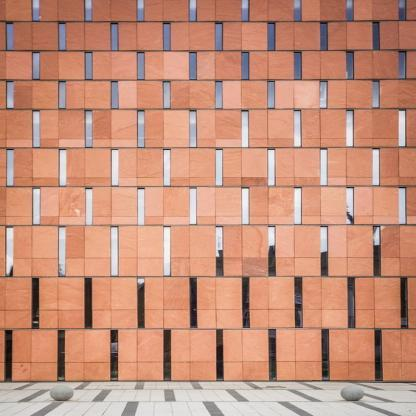Building Outline: (0, 0, 416, 382)
Facade: (0, 0, 416, 382)
Floor: (0, 279, 416, 326), (0, 228, 416, 274), (0, 112, 416, 146), (0, 151, 416, 185), (0, 189, 416, 223), (0, 24, 416, 49), (0, 53, 416, 78), (0, 82, 416, 107), (0, 0, 416, 19)
Floor Slab: (0, 326, 416, 331), (0, 274, 416, 279), (0, 223, 416, 228), (0, 184, 416, 189), (0, 146, 416, 151), (0, 107, 416, 112), (0, 19, 416, 24), (0, 78, 416, 82), (0, 49, 416, 53)
Ground Floor: (0, 331, 416, 382)
Window: (268, 329, 276, 382), (4, 330, 12, 382), (216, 330, 224, 382), (373, 227, 381, 277), (294, 279, 302, 329), (347, 278, 355, 328), (216, 227, 224, 277), (58, 227, 66, 277), (84, 279, 92, 329), (136, 278, 144, 328), (322, 329, 329, 381), (375, 330, 382, 382), (57, 330, 64, 382), (111, 330, 118, 382), (164, 330, 171, 382), (321, 226, 328, 276), (242, 278, 249, 328), (400, 278, 407, 328), (268, 226, 275, 276), (32, 278, 39, 328), (189, 278, 196, 328), (6, 227, 13, 276), (111, 227, 118, 276), (163, 227, 170, 276), (241, 110, 249, 148), (372, 148, 380, 186), (398, 110, 406, 148), (320, 148, 328, 186), (215, 148, 223, 186), (32, 110, 40, 148), (137, 110, 145, 148), (189, 110, 197, 148), (293, 110, 301, 147), (241, 187, 249, 224), (293, 187, 301, 224), (398, 187, 406, 224), (58, 149, 66, 186), (32, 187, 40, 224), (137, 187, 145, 224), (189, 187, 197, 224), (346, 110, 353, 148), (268, 148, 275, 186), (346, 187, 353, 224), (85, 110, 92, 147), (6, 149, 13, 186), (111, 149, 118, 186), (163, 149, 170, 186), (85, 187, 92, 224), (58, 23, 66, 51), (241, 51, 249, 79), (293, 51, 301, 79), (372, 23, 380, 51), (320, 23, 328, 51), (372, 80, 380, 108), (398, 51, 406, 79), (320, 81, 328, 109), (58, 81, 66, 109), (84, 51, 92, 79), (136, 51, 144, 79), (215, 23, 223, 50), (215, 81, 223, 108), (268, 81, 275, 109), (6, 23, 13, 51), (111, 23, 118, 51), (346, 51, 353, 79), (163, 23, 170, 51), (6, 81, 13, 109), (111, 81, 118, 109), (163, 81, 170, 109), (32, 51, 39, 79), (189, 51, 196, 79), (268, 23, 275, 51), (399, 0, 406, 21), (137, 0, 144, 21), (294, 0, 301, 21), (33, 0, 39, 21), (85, 0, 91, 21), (190, 0, 196, 21), (243, 0, 249, 21), (347, 0, 353, 21)
